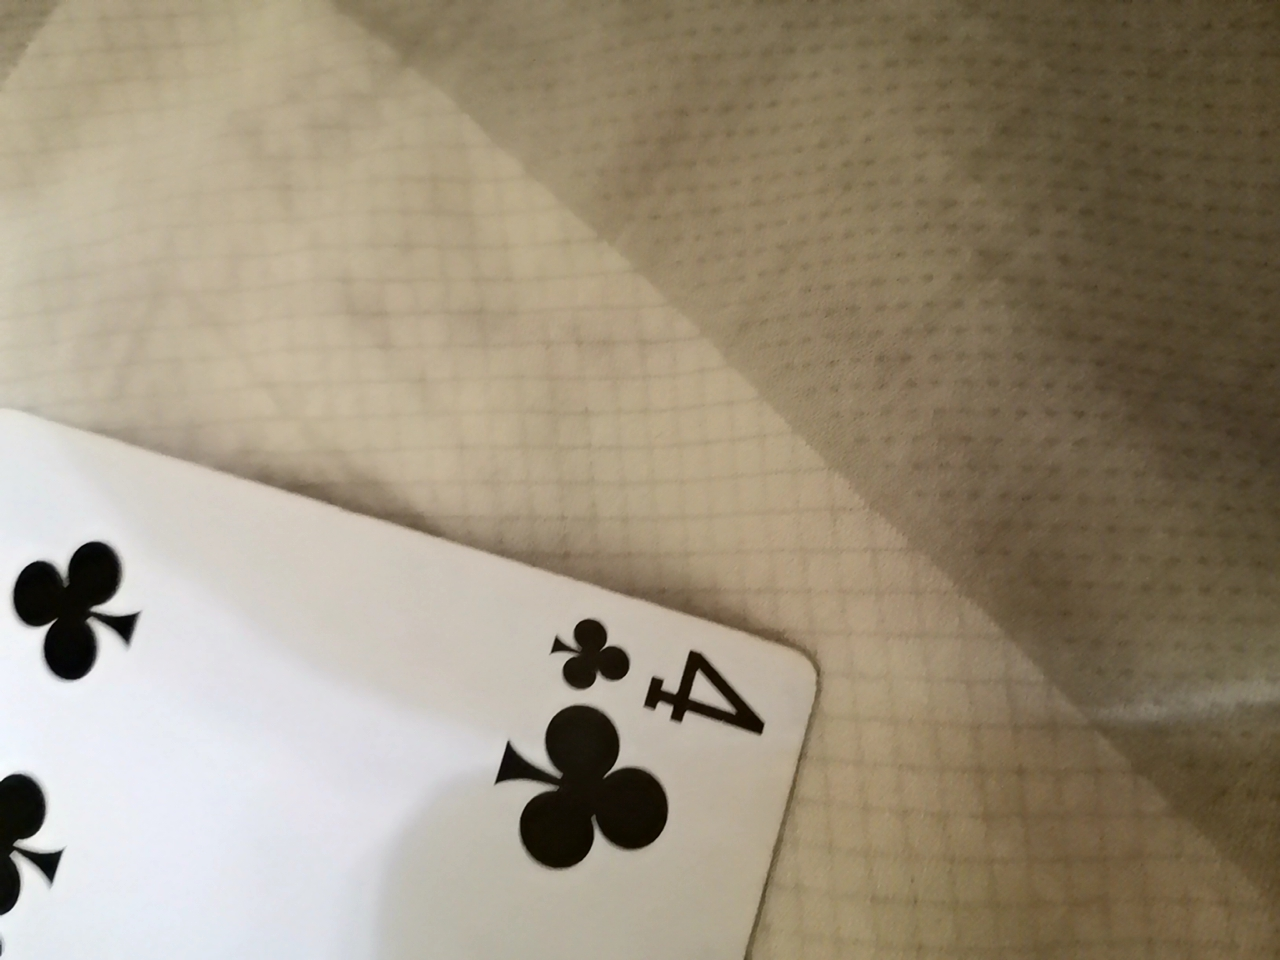mh 4: (0, 355, 827, 956)
